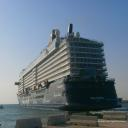cruises: (15, 23, 124, 114)
